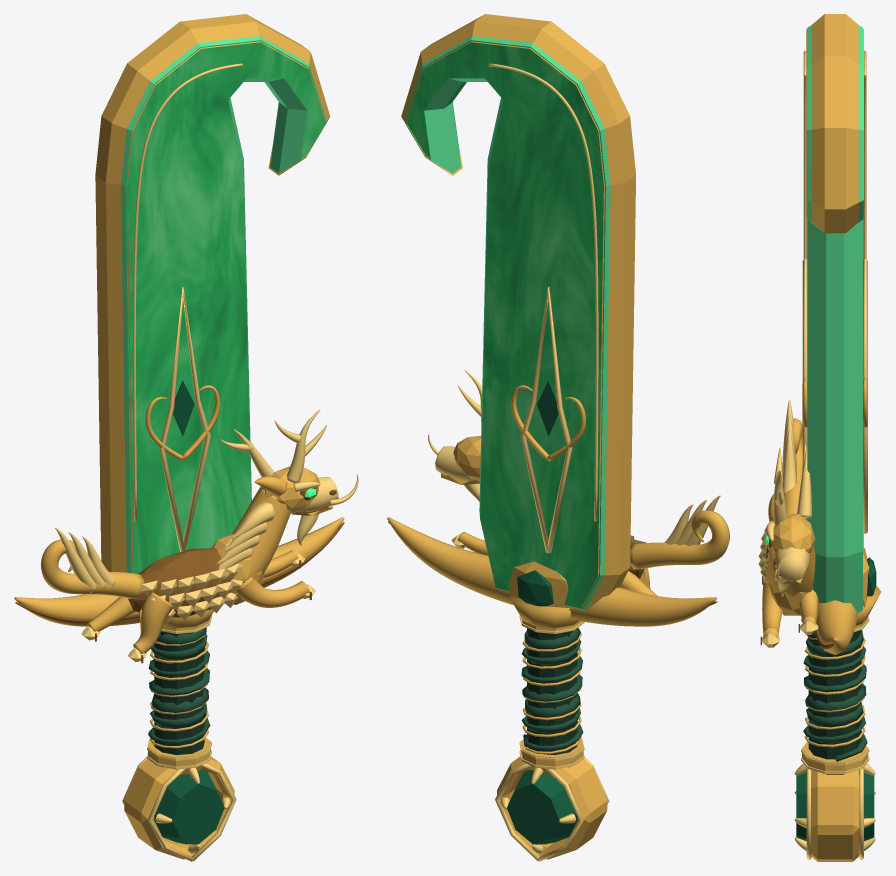
The picture shows the model from 3 angles, left to right: view 1: azimuth 30°, elevation 25°; view 2: azimuth 150°, elevation 25°; view 3: azimuth 270°, elevation 25°; orthographic projection. The views are drawn at different scales.
Visible parts, largest first — view 1: Blade | monolithic hooked jade and broad cutting bevels, Blade | imperial gold spine and hooked crown cap, Pommel | colossal double-sided faceted dark jade, Grip | continuous solid helical leather wrap, Pommel | massive open octagonal gold bezel, Guard | massive upswept imperial quillons, Grip | ten-sided leather core, Qilin | overlapping gilded dragon scales, Qilin | powerful scaled torso, Blade | long gold spearhead inlay -1, Qilin | great curling flame tail, Blade | fine inner spine tracer -1 (+13 smaller); view 2: Blade | monolithic hooked jade and broad cutting bevels, Blade | imperial gold spine and hooked crown cap, Guard | massive upswept imperial quillons, Pommel | colossal double-sided faceted dark jade, Grip | continuous solid helical leather wrap, Pommel | massive open octagonal gold bezel, Grip | ten-sided leather core, Qilin | great curling flame tail, Blade | long gold spearhead inlay 1, Blade | fine inner spine tracer 1, Grip | gold thread binding welt, Guard | flared grip socket (+7 smaller); view 3: Blade | monolithic hooked jade and broad cutting bevels, Blade | imperial gold spine and hooked crown cap, Pommel | massive open octagonal gold bezel, Grip | continuous solid helical leather wrap, Grip | ten-sided leather core, Guard | massive upswept imperial quillons, Grip | gold thread binding welt, Pommel | colossal double-sided faceted dark jade, Qilin | proud dragon-stag head, Blade | long gold spearhead inlay 1, Qilin | long equine dragon muzzle, Blade | long gold spearhead inlay -1 (+19 smaller).
Boxes of the visible parts, x1=… form: Blade | monolithic hooked jade and broad cutting bevels: x1=121, y1=36, x2=326, y2=573; Blade | imperial gold spine and hooked crown cap: x1=95, y1=14, x2=330, y2=573; Pommel | colossal double-sided faceted dark jade: x1=154, y1=769, x2=224, y2=844; Grip | continuous solid helical leather wrap: x1=148, y1=627, x2=210, y2=743; Pommel | massive open octagonal gold bezel: x1=124, y1=756, x2=234, y2=859; Guard | massive upswept imperial quillons: x1=14, y1=517, x2=344, y2=626; Grip | ten-sided leather core: x1=154, y1=631, x2=204, y2=754; Qilin | overlapping gilded dragon scales: x1=140, y1=563, x2=242, y2=623; Qilin | powerful scaled torso: x1=128, y1=548, x2=231, y2=617; Blade | long gold spearhead inlay -1: x1=159, y1=286, x2=210, y2=552; Qilin | great curling flame tail: x1=40, y1=539, x2=144, y2=598; Blade | fine inner spine tracer -1: x1=133, y1=63, x2=242, y2=521; Blade | monolithic hooked jade and broad cutting bevels: x1=405, y1=36, x2=610, y2=610; Blade | imperial gold spine and hooked crown cap: x1=401, y1=14, x2=635, y2=610; Guard | massive upswept imperial quillons: x1=387, y1=517, x2=716, y2=626; Pommel | colossal double-sided faceted dark jade: x1=507, y1=769, x2=577, y2=844; Grip | continuous solid helical leather wrap: x1=521, y1=627, x2=583, y2=749; Pommel | massive open octagonal gold bezel: x1=497, y1=756, x2=607, y2=859; Grip | ten-sided leather core: x1=527, y1=628, x2=577, y2=754; Qilin | great curling flame tail: x1=630, y1=510, x2=729, y2=569; Blade | long gold spearhead inlay 1: x1=520, y1=286, x2=572, y2=553; Blade | fine inner spine tracer 1: x1=488, y1=63, x2=598, y2=521; Grip | gold thread binding welt: x1=522, y1=631, x2=581, y2=753; Guard | flared grip socket: x1=510, y1=596, x2=578, y2=628; Blade | monolithic hooked jade and broad cutting bevels: x1=807, y1=25, x2=862, y2=613; Blade | imperial gold spine and hooked crown cap: x1=806, y1=14, x2=863, y2=547; Pommel | massive open octagonal gold bezel: x1=811, y1=770, x2=859, y2=861; Grip | continuous solid helical leather wrap: x1=803, y1=630, x2=867, y2=761; Grip | ten-sided leather core: x1=808, y1=630, x2=861, y2=759; Guard | massive upswept imperial quillons: x1=816, y1=600, x2=858, y2=654; Grip | gold thread binding welt: x1=804, y1=634, x2=865, y2=759; Pommel | colossal double-sided faceted dark jade: x1=796, y1=772, x2=874, y2=840; Qilin | proud dragon-stag head: x1=771, y1=514, x2=815, y2=554; Blade | long gold spearhead inlay 1: x1=863, y1=259, x2=867, y2=533; Qilin | long equine dragon muzzle: x1=773, y1=547, x2=810, y2=582; Blade | long gold spearhead inlay -1: x1=802, y1=259, x2=807, y2=520.
Bounding box in the file's own units: 0.8341 × 2 × 0.2623.
9 materials, 1 textured.
